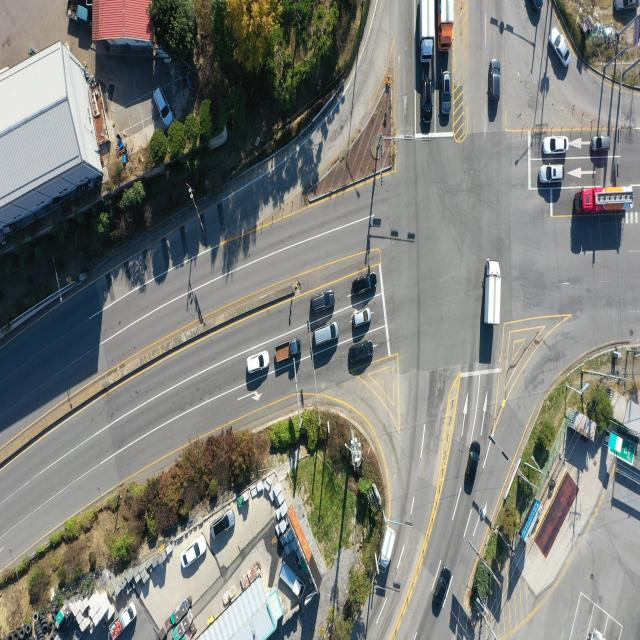car: (463, 442, 480, 495), (550, 24, 571, 66), (432, 568, 451, 614), (183, 538, 209, 570), (153, 85, 172, 127), (312, 322, 338, 347), (212, 509, 234, 538), (348, 341, 374, 365), (312, 291, 338, 314), (422, 76, 434, 122), (247, 351, 270, 374), (352, 275, 376, 297), (442, 73, 453, 119), (491, 60, 502, 101), (544, 137, 568, 155), (539, 166, 563, 184), (352, 309, 372, 328), (615, 0, 639, 12), (592, 137, 611, 152), (530, 0, 544, 16)
medium_truck: (575, 185, 633, 211), (486, 258, 502, 325), (420, 0, 437, 60), (439, 0, 455, 51)
small_truck: (103, 600, 139, 640), (280, 560, 304, 599), (378, 529, 395, 567), (274, 340, 300, 364), (66, 1, 89, 27)
